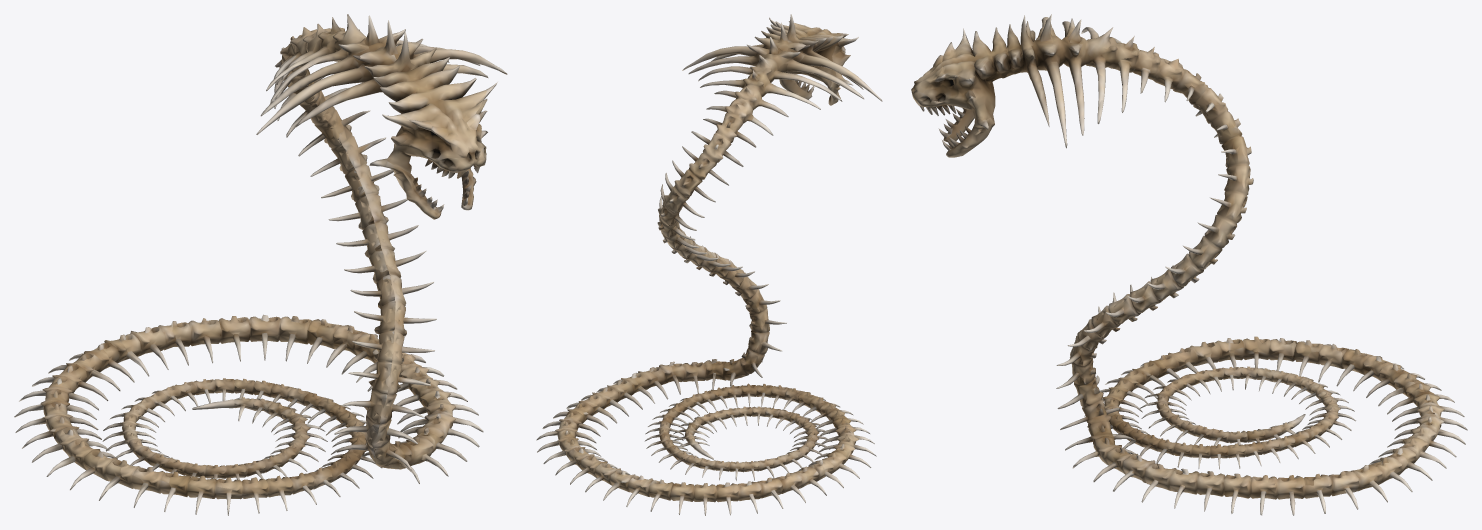
File: MZ4250 - Bone Naga.glb
3 renders of one model, left to right at view 1: azimuth 30°, elevation 25°; view 2: azimuth 150°, elevation 25°; view 3: azimuth 270°, elevation 25°, orthographic. The views are drawn at different scales.
Visible parts, largest first — view 1: Cube.002; view 2: Cube.002; view 3: Cube.002.
Part boxes in pixels (x1,y1,x2,y2): Cube.002: (14,14,507,515); Cube.002: (536,14,882,515); Cube.002: (911,14,1467,515).
Bounding box in the file's own units: 124 × 145 × 171.
1 material, 1 textured.
